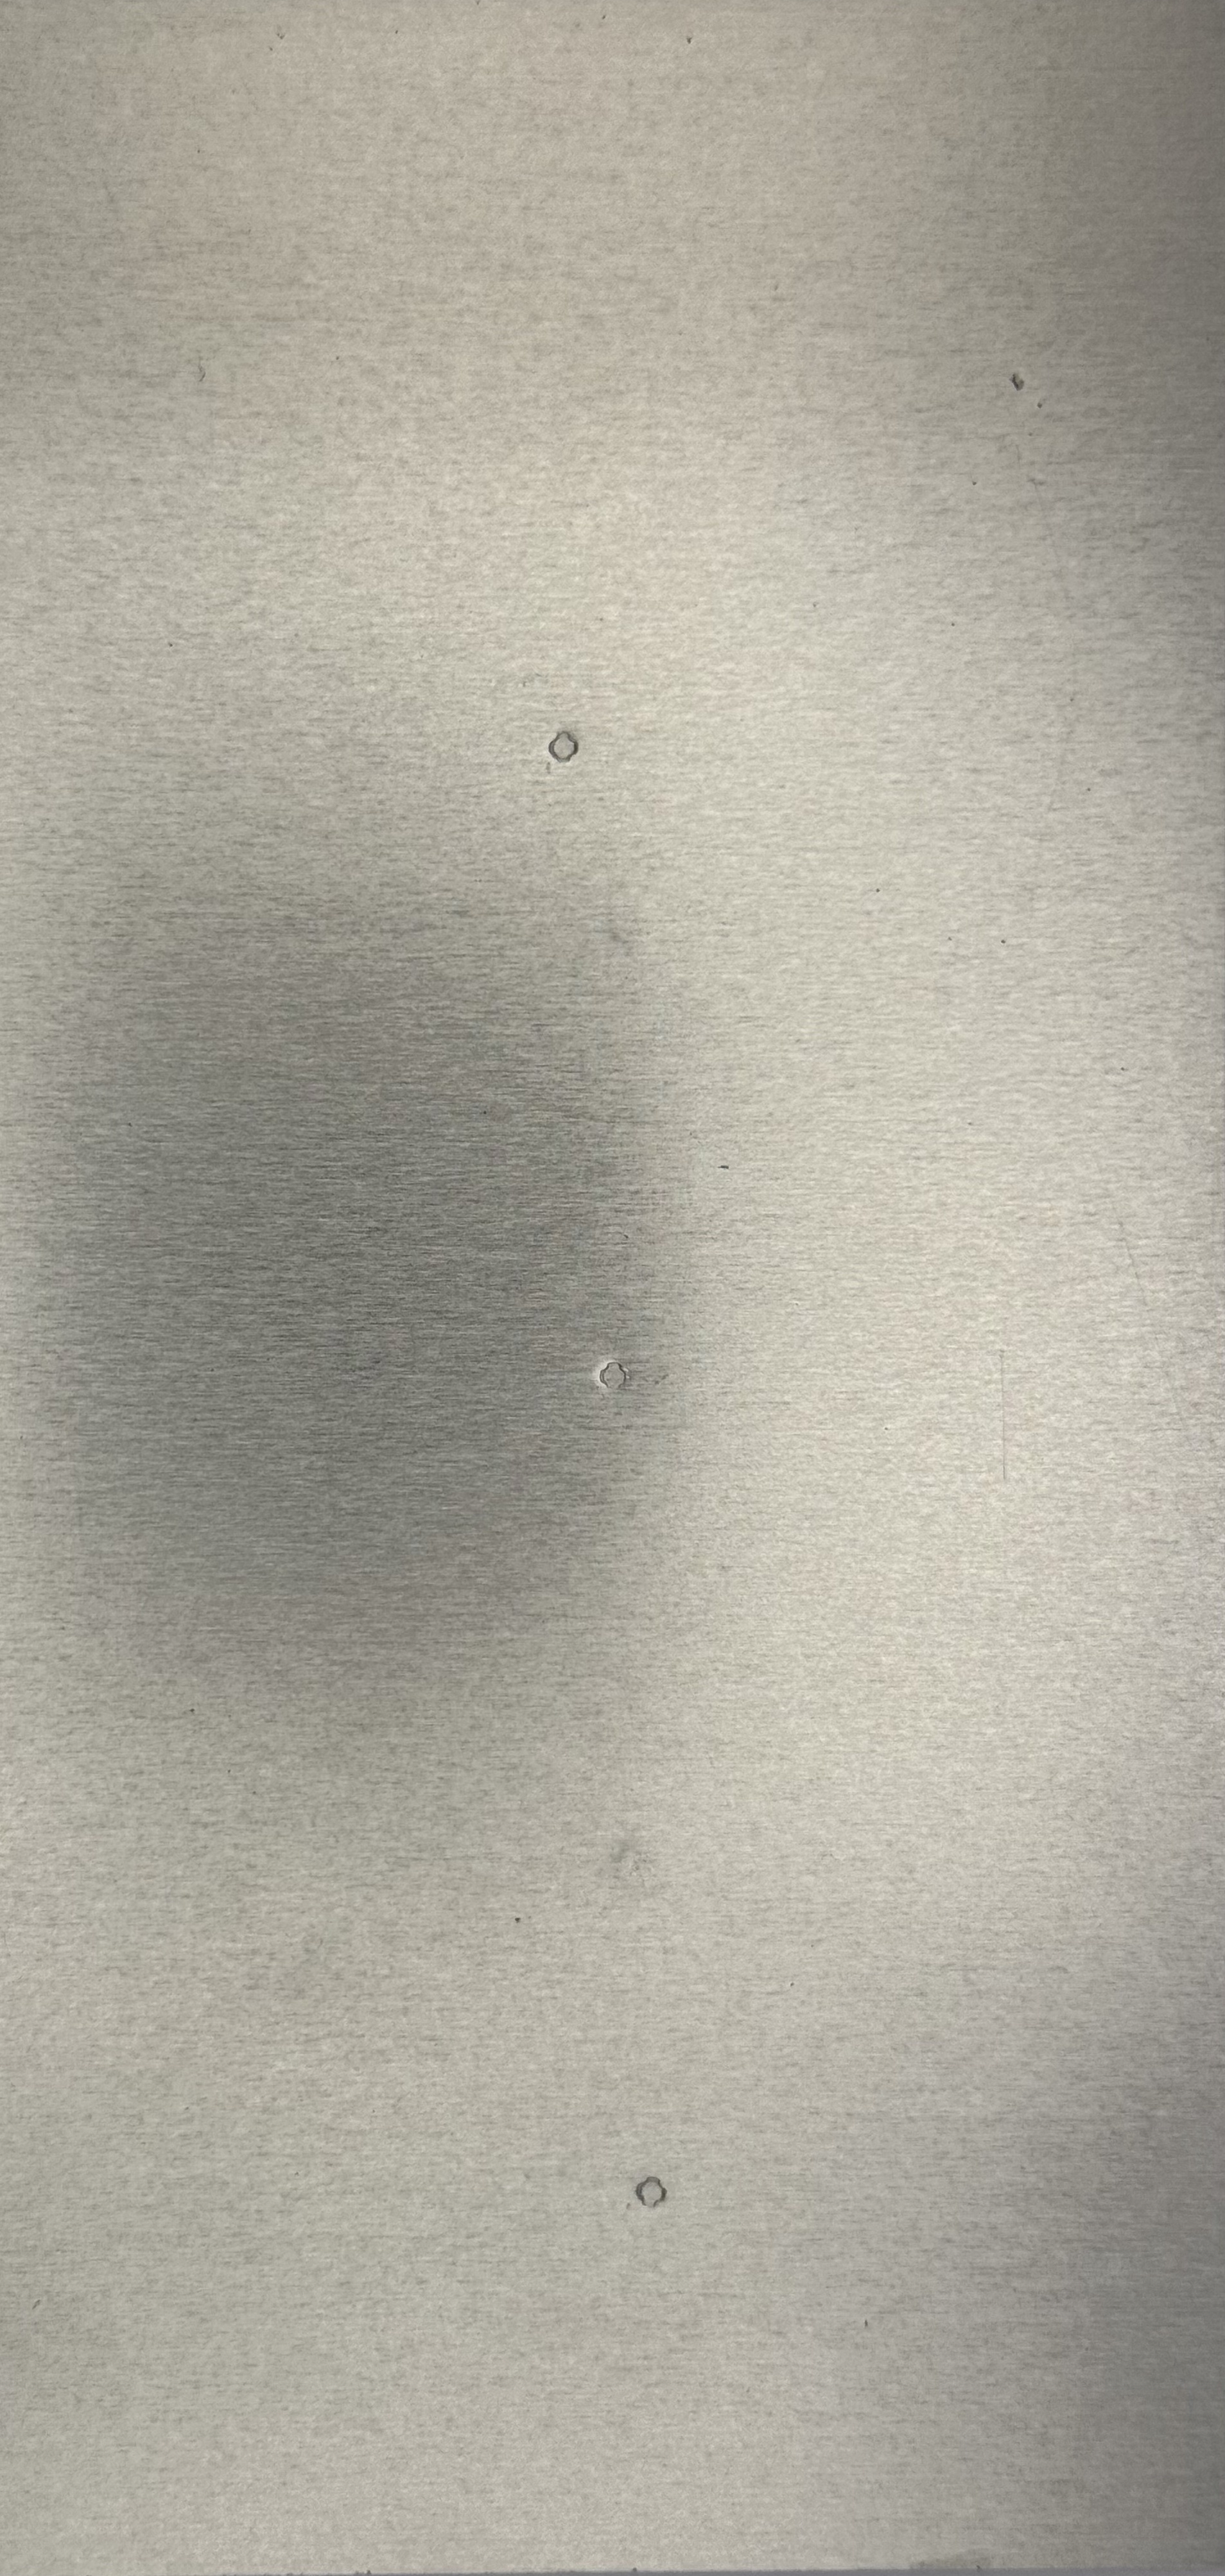Delle: (593, 1814, 691, 1917), (616, 2164, 690, 2221), (581, 1347, 650, 1408), (534, 721, 596, 772)
